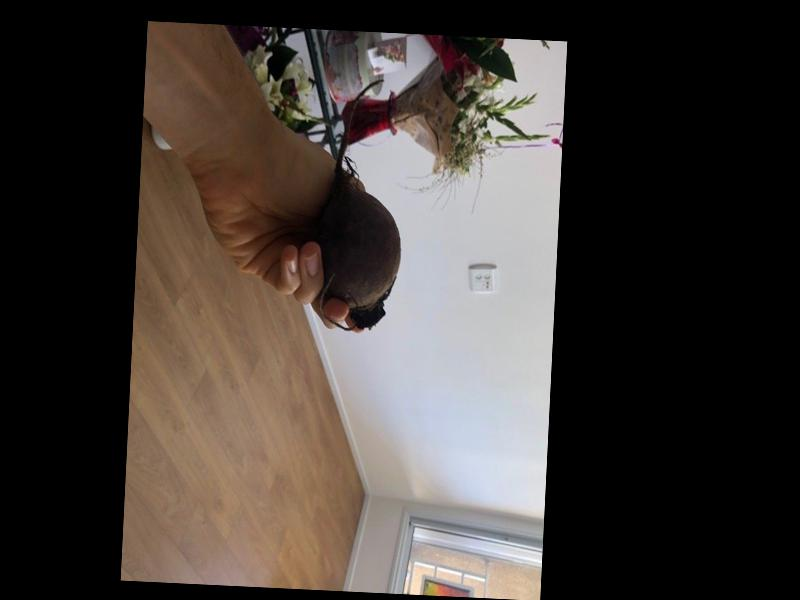Beet: (309, 77, 408, 333)
